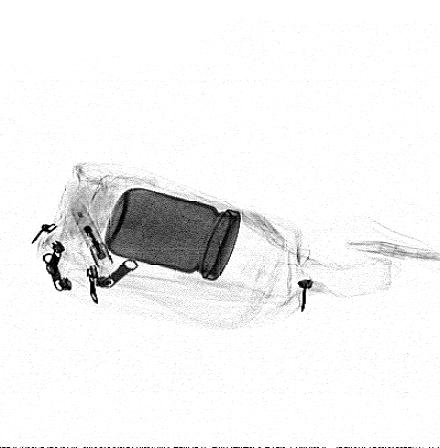Lighter: (70, 201, 116, 269)
